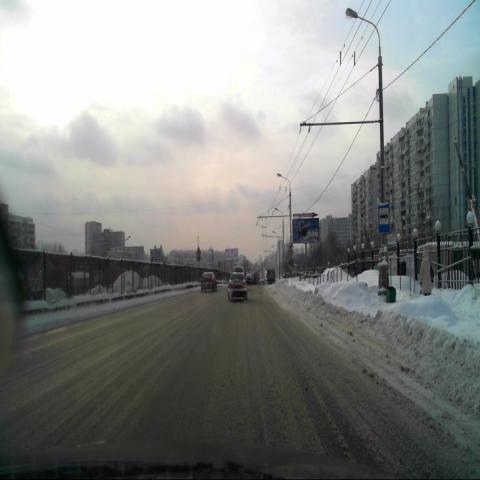5_16: (378, 204, 390, 234)
